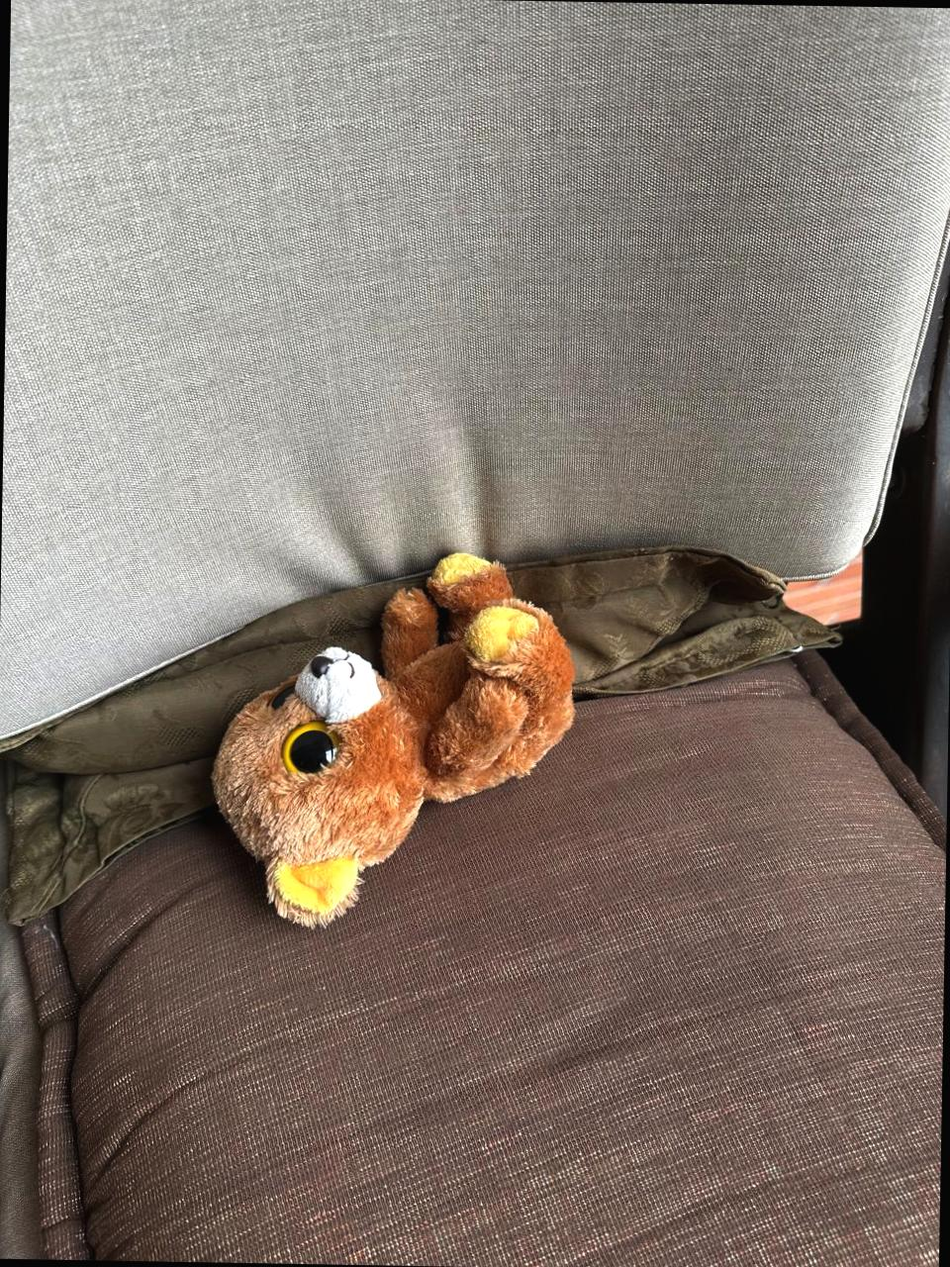peluche_sebastian: (202, 552, 580, 932)
